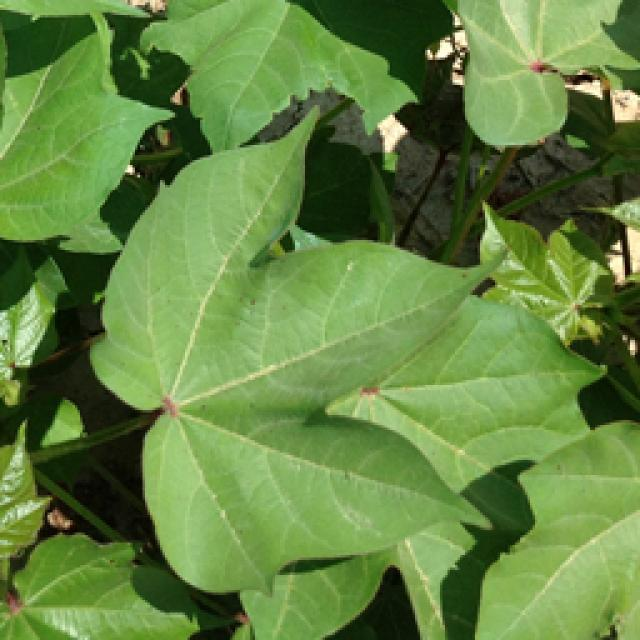Healthy Leaf: (62, 7, 639, 640)
